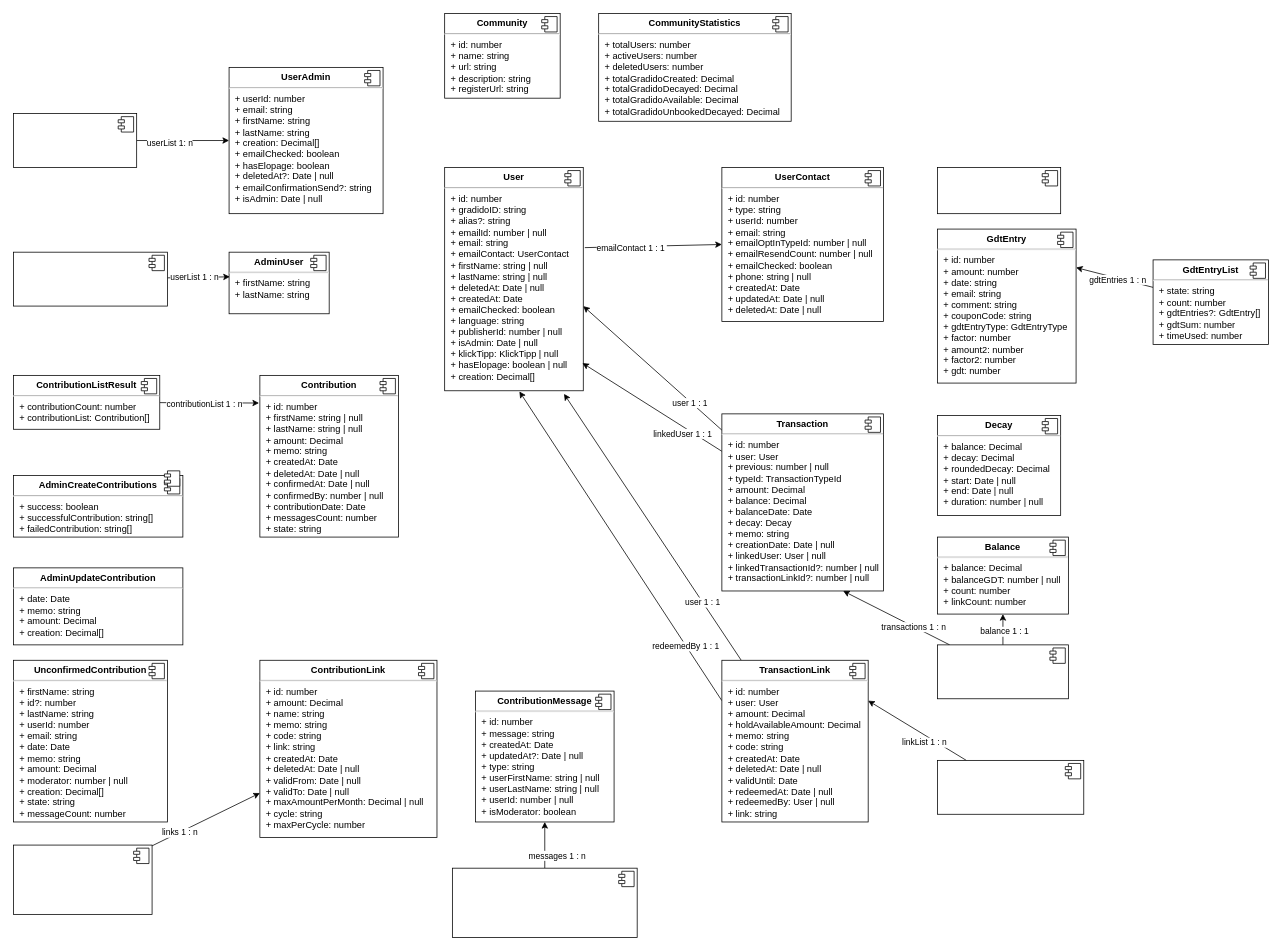
Image size: 1282x951. Some labels were removed from this diagram. The shapes that lost their labels are listed below. From the top down, each one's centre as x and y in pixels, then its label:
[75,140]: SearchUserResult + userCount: number + userList: UserAdmin[]
[999,190]: KlickTipp + newsletterState: boolean
[90,278]: SearchAdminUsersResult + userCount: number + userList: AdminUser[]
[1002,671]: TransactionList + balance: Balance + transactions: Transaction[]
[1010,787]: TransactionLinkResult + linkCount: number + linkList: TransactionLink[]
[82,879]: ContributionLinkList + links: ContributionLink[] + count: number
[544,902]: ContributionMessageListResult + count: number + messages: ContributionMessage[]
